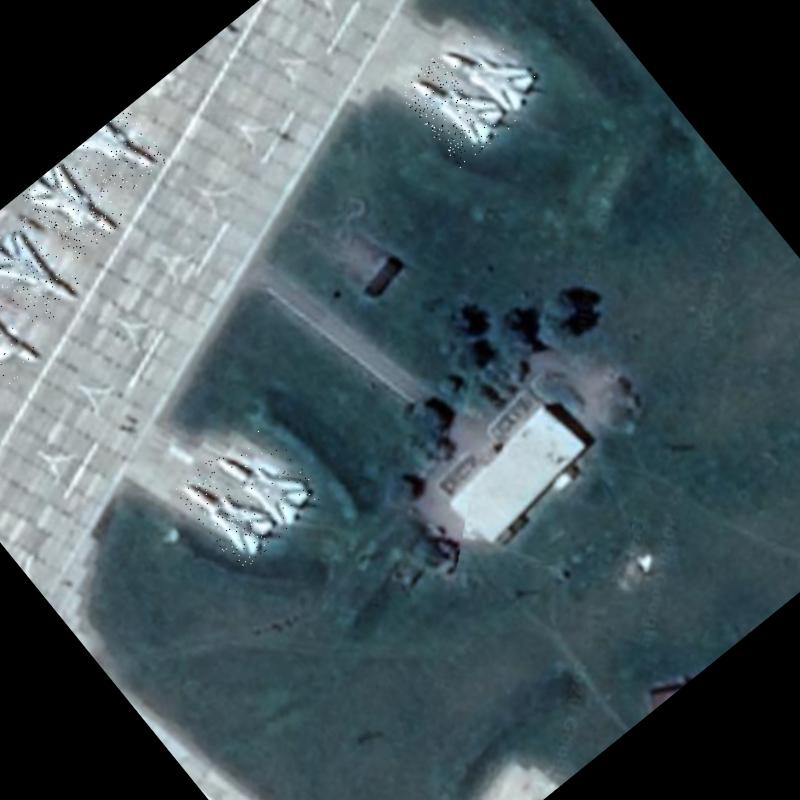A20: (394, 41, 516, 168), (434, 6, 552, 132), (210, 422, 328, 545), (172, 452, 286, 572), (20, 150, 130, 262), (0, 215, 86, 330), (76, 105, 171, 200), (0, 281, 47, 398)
